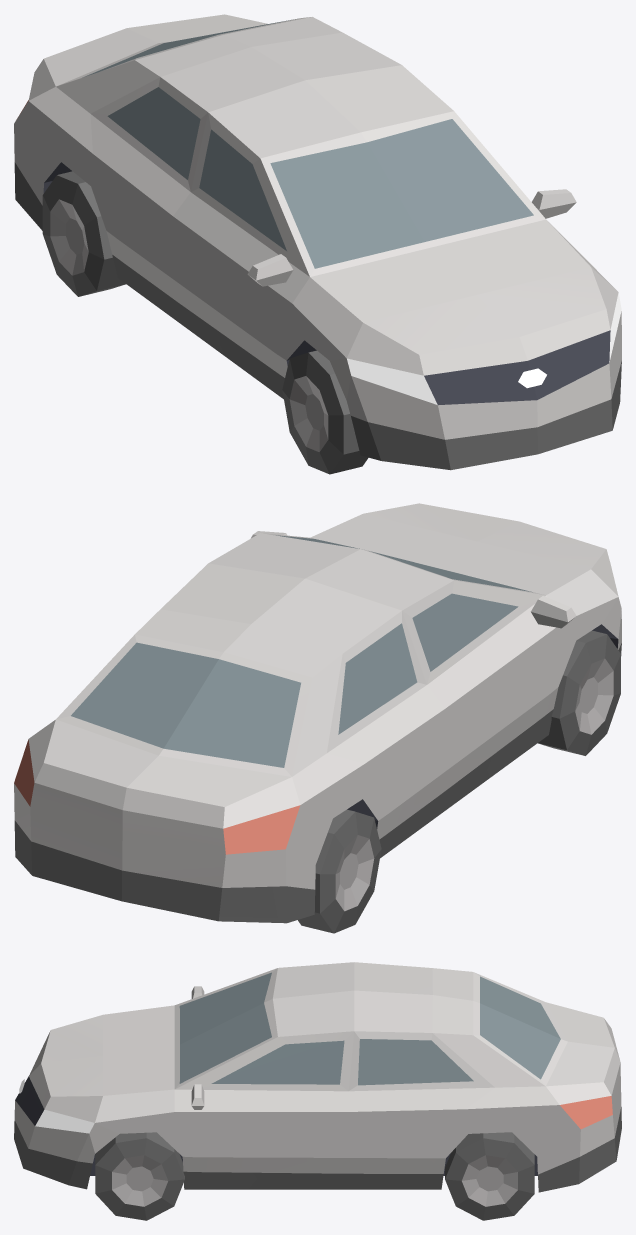
File: passenger.glb
The picture shows the model from 3 angles, top to bottom: view 1: azimuth 30°, elevation 25°; view 2: azimuth 150°, elevation 25°; view 3: azimuth 270°, elevation 25°; orthographic projection. The views are drawn at different scales.
Parts seen in each view (by area): view 1: car_passenger_base, windows, car_passenger_wheel_FR, car_passenger_wheel_BR, headlight_L; view 2: car_passenger_base, windows, car_passenger_wheel_FR, car_passenger_wheel_BR, rearlight_R, rearlight_L; view 3: car_passenger_base, windows, car_passenger_wheel_BL, car_passenger_wheel_FL, rearlight_L, headlight_R.
Part boxes in pixels (x1,y1,x2,y2): car_passenger_base: (14,14,621,470); windows: (82,19,533,268); car_passenger_wheel_FR: (282,350,368,474); car_passenger_wheel_BR: (42,171,125,296); headlight_L: (347,358,437,404); car_passenger_base: (14,503,621,923); windows: (71,535,532,767); car_passenger_wheel_FR: (538,630,620,755); car_passenger_wheel_BR: (298,809,381,933); rearlight_R: (223,805,300,854); rearlight_L: (14,739,34,806); car_passenger_base: (14,962,621,1192); windows: (179,972,560,1085); car_passenger_wheel_BL: (445,1132,534,1220); car_passenger_wheel_FL: (95,1132,184,1220); rearlight_L: (560,1096,612,1129); headlight_R: (35,1109,94,1133).
Bounding box in the file's own units: 2.1 × 1.55 × 4.72.
